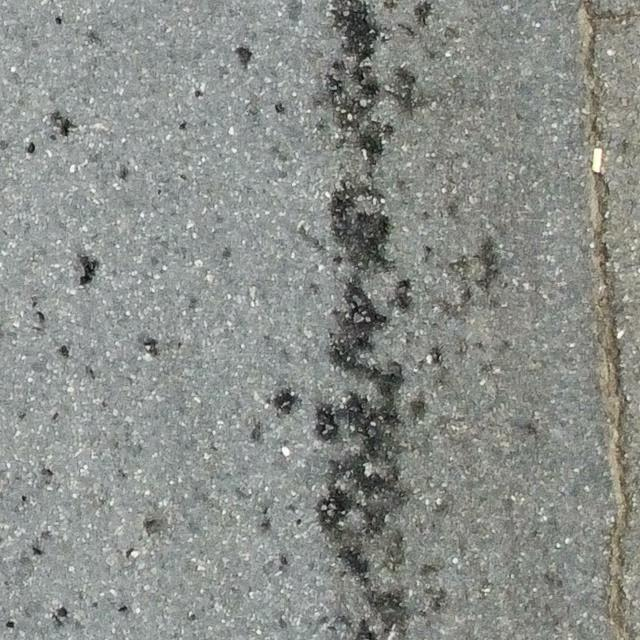LongitudinalCrack: (575, 1, 638, 640)
